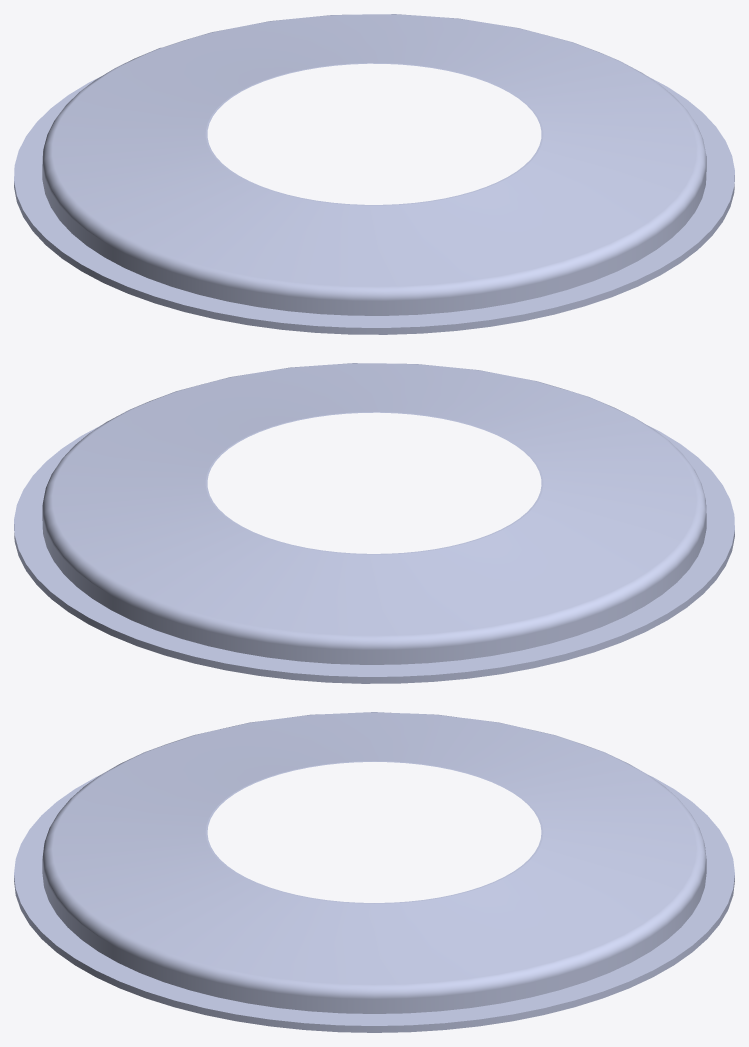
The model's file is density-ring.fbx.
The picture shows the model from 3 angles, top to bottom: view 1: azimuth 30°, elevation 25°; view 2: azimuth 150°, elevation 25°; view 3: azimuth 270°, elevation 25°; orthographic projection.
Visible parts, largest first — view 1: density ring.SLDPRT; view 2: density ring.SLDPRT; view 3: density ring.SLDPRT.
Boxes of the visible parts, box(x1,y1,x2,y2) form: density ring.SLDPRT: box(14, 14, 734, 334); density ring.SLDPRT: box(14, 363, 734, 683); density ring.SLDPRT: box(14, 712, 734, 1032).
Bounding box in the file's own units: 0.19 × 0.014 × 0.19.
